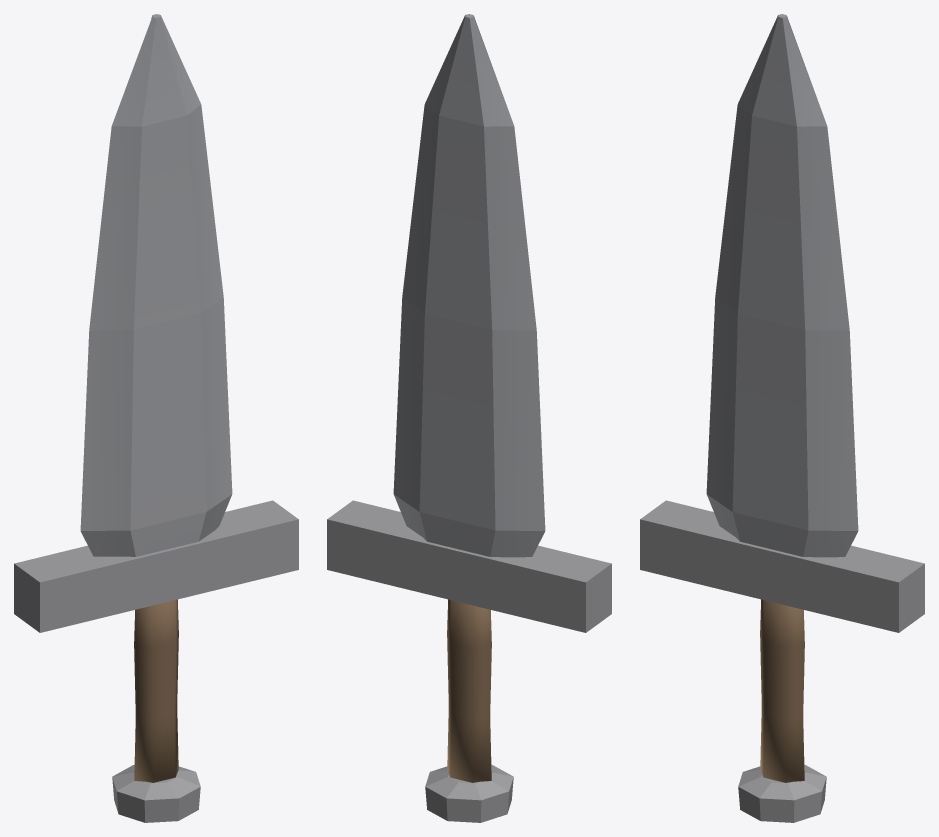
3 renders of one model, left to right at view 1: azimuth 30°, elevation 25°; view 2: azimuth 150°, elevation 25°; view 3: azimuth 330°, elevation 25°, orthographic.
Visible parts, largest first — view 1: iron_sword; view 2: iron_sword; view 3: iron_sword.
Boxes of the visible parts, left/top/right/bottom form: iron_sword: left=14, top=14, right=298, bottom=822; iron_sword: left=327, top=14, right=611, bottom=822; iron_sword: left=640, top=14, right=924, bottom=822.
Bounding box in the file's own units: 0.3 × 0.88 × 0.092.
